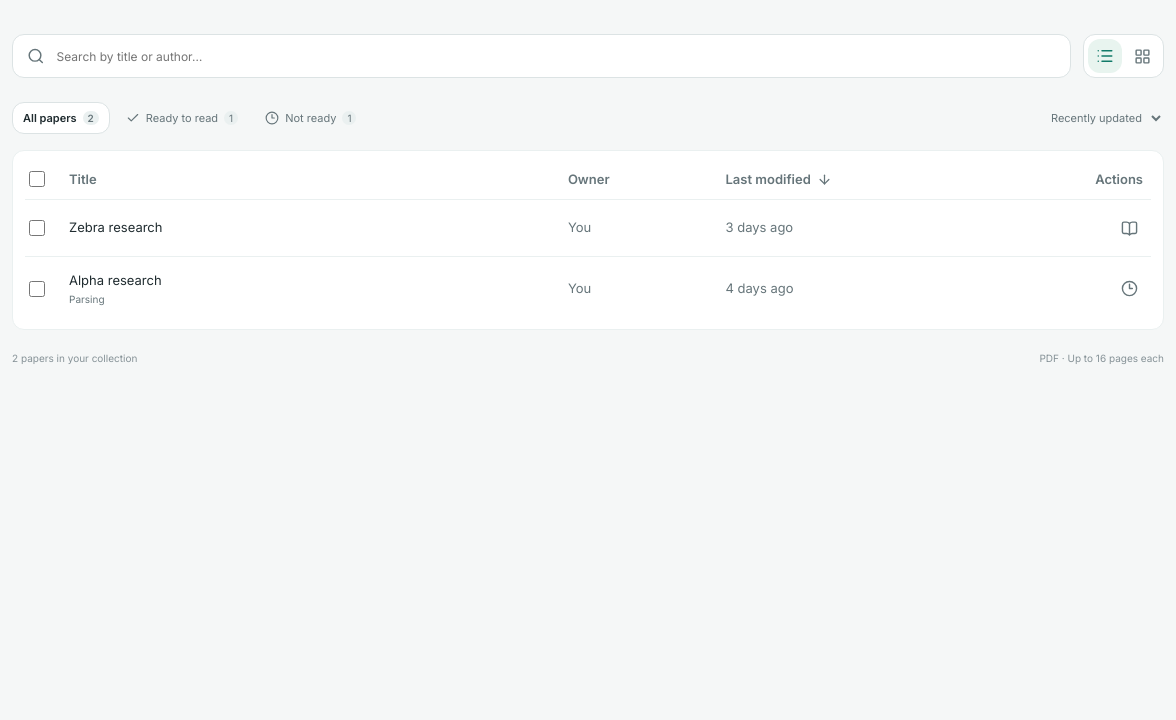
Test: library browsing › searches titles and authors and clears empty results without navigation
Step 1. Type "lovelace" into the search field named "Search your library" → (555, 56), box x1=54 y1=48 x2=1056 y2=64
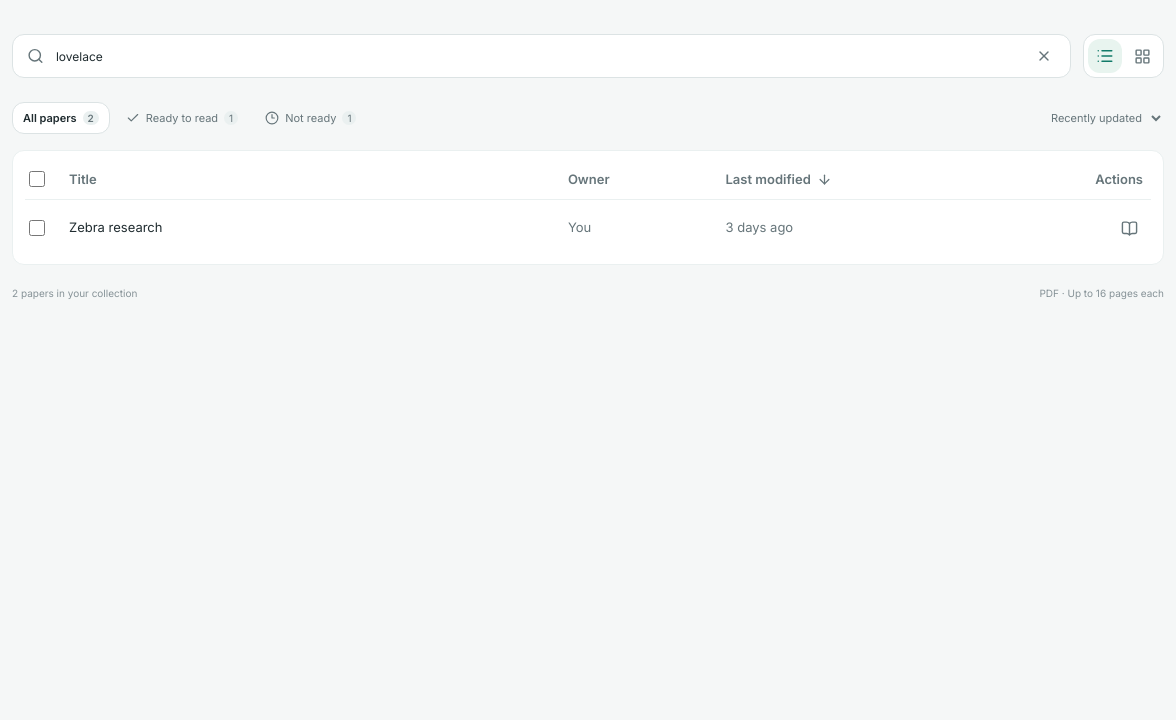
expect the link "Zebra research" is shown: met, box x1=69 y1=219 x2=162 y2=235
expect the link "Alpha research" is gone: met
Step 2. Replace the text in the search field named "Search your library" with "missing" → (538, 56), box x1=54 y1=48 x2=1022 y2=64
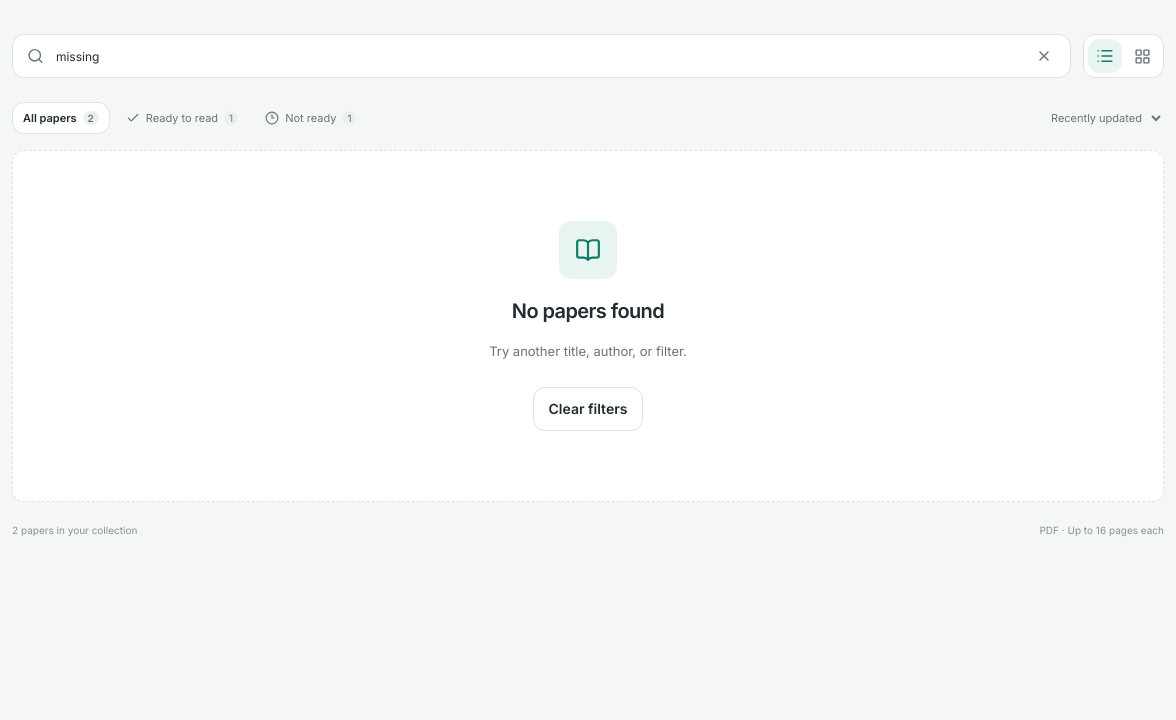
expect the heading "No papers found" is shown: met, box x1=512 y1=299 x2=664 y2=323
Step 3. Click the button "Clear filters" → (588, 409), box x1=532 y1=387 x2=643 y2=431
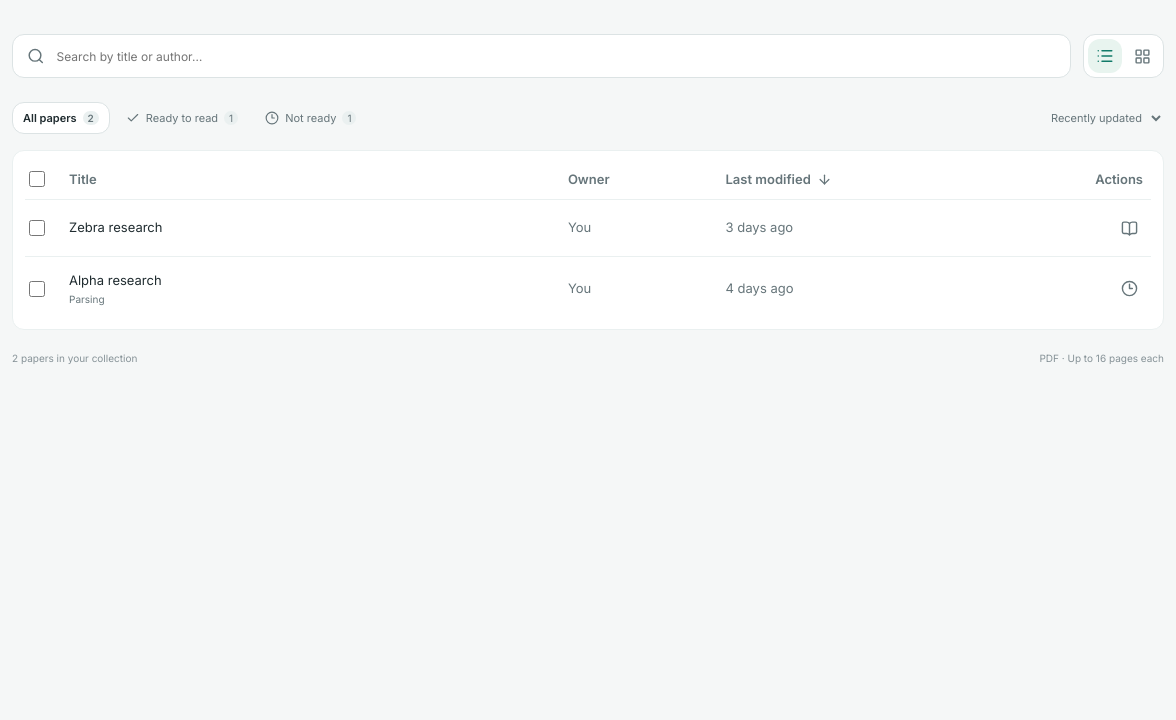
expect the number of rows is 3: met, box x1=25 y1=159 x2=1151 y2=199; x1=25 y1=200 x2=1151 y2=256; x1=25 y1=256 x2=1151 y2=321
